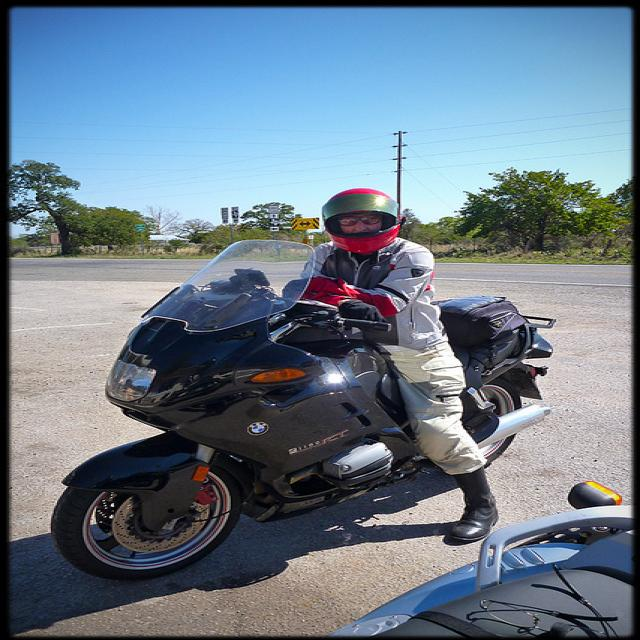motor: (45, 236, 562, 591), (328, 483, 632, 634)
